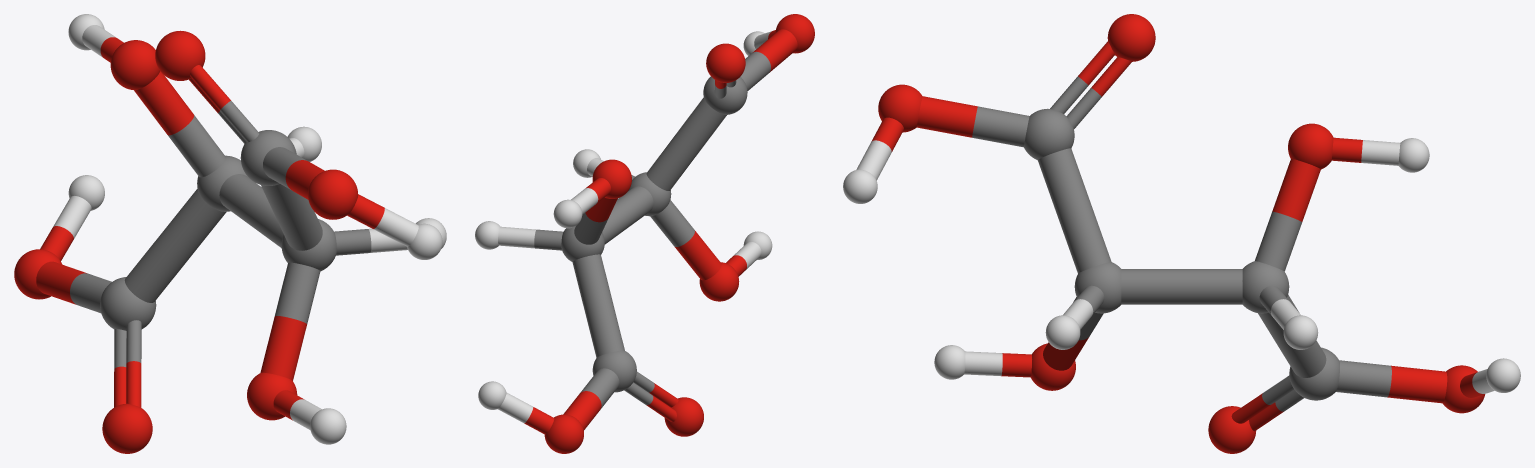
Rendered from SSTARTARICACID.MOL2.glb.
3 renders of one model, left to right at view 1: azimuth 30°, elevation 25°; view 2: azimuth 150°, elevation 25°; view 3: azimuth 270°, elevation 25°, orthographic. The views are drawn at different scales.
Bounding box in the file's own units: 2.61 × 4.57 × 6.45.
